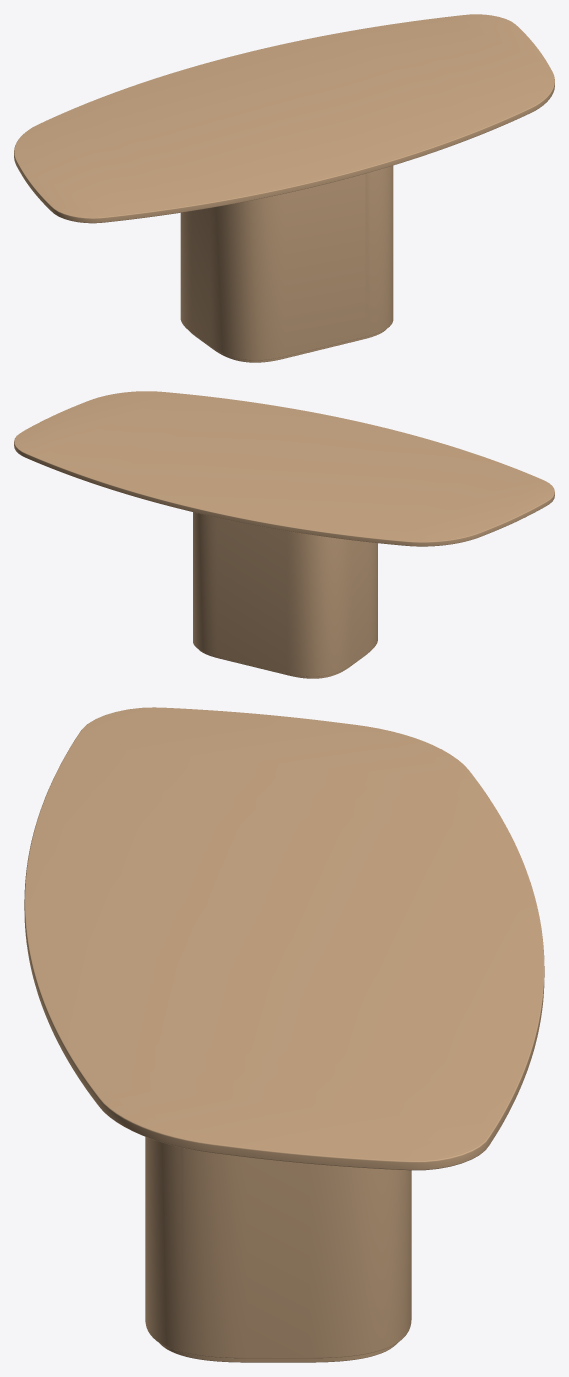
Rendered from mesa-de-jantar-gamay.glb.
3 renders of one model, top to bottom at view 1: azimuth 30°, elevation 25°; view 2: azimuth 150°, elevation 25°; view 3: azimuth 270°, elevation 25°, orthographic. The views are drawn at different scales.
Size of the model in its own units: 2.08 by 0.7627 by 1.01.
